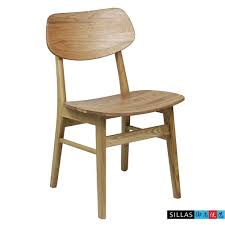tiyarina: (39, 5, 191, 217)
